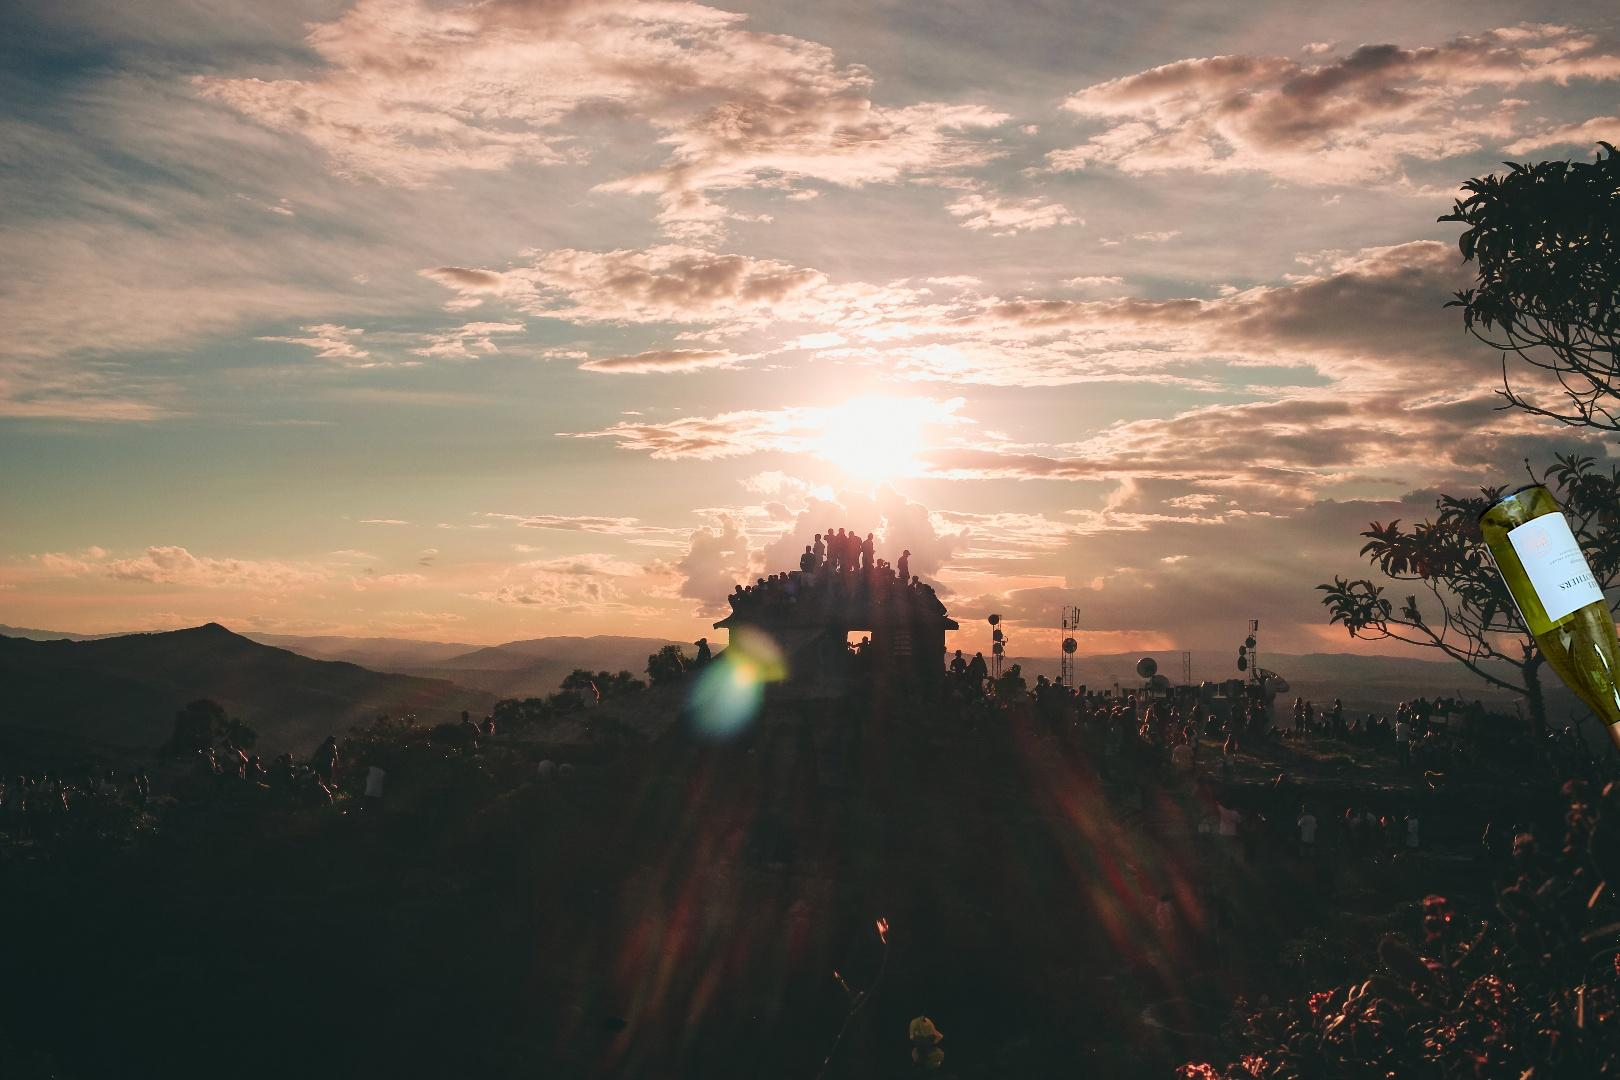glass: (1473, 479, 1620, 796)
